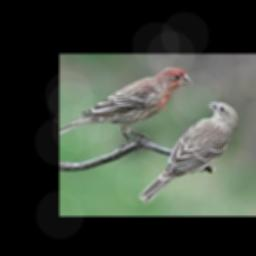Sparrow: (137, 102, 238, 204), (59, 67, 192, 144)
